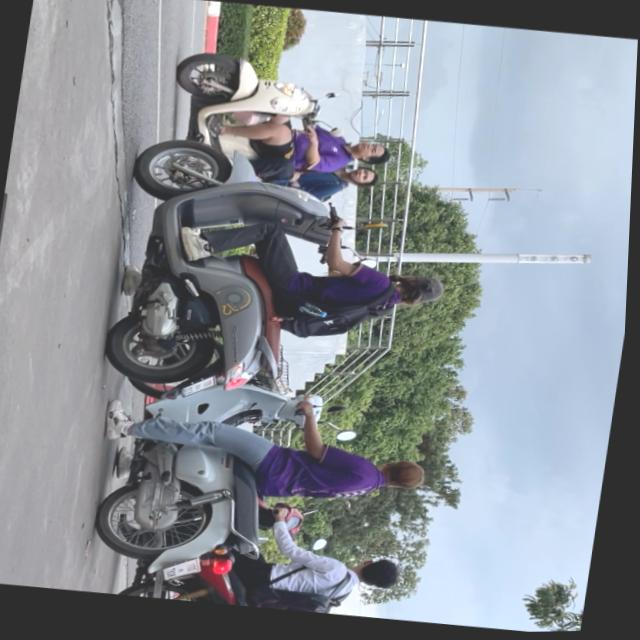seatbelt: (393, 272, 448, 311), (377, 458, 431, 494), (356, 556, 406, 592), (351, 139, 394, 168), (347, 166, 382, 189)
